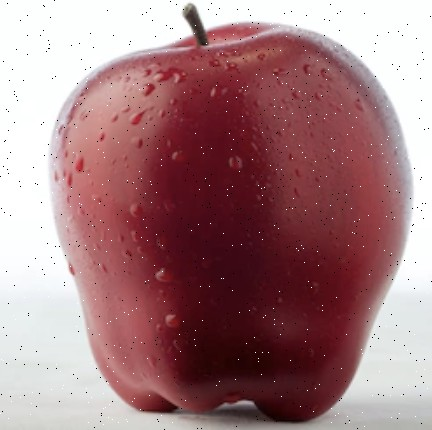fresh_apple: (55, 24, 414, 421)
